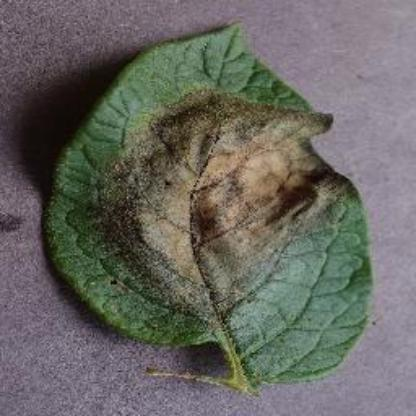Late-Blight: (19, 18, 393, 402)
